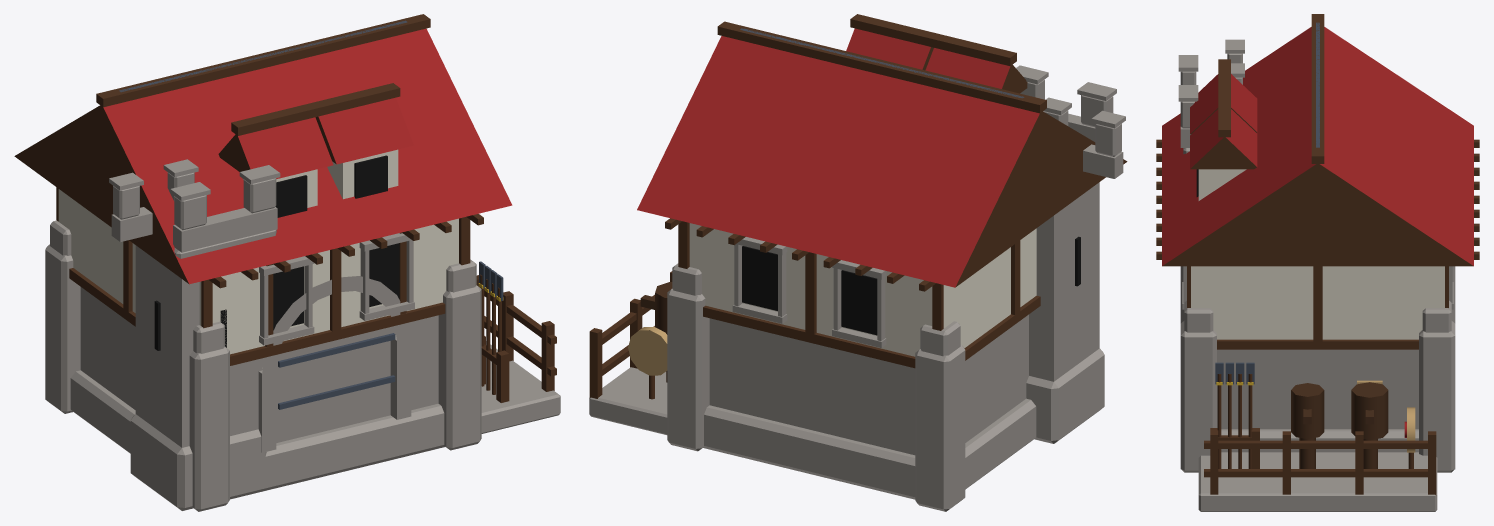
Rendered from AoE4_Barracks.obj.
3 renders of one model, left to right at view 1: azimuth 30°, elevation 25°; view 2: azimuth 150°, elevation 25°; view 3: azimuth 270°, elevation 25°, orthographic. The views are drawn at different scales.
Bounding box in the file's own units: 4.24 × 3.48 × 3.12.
